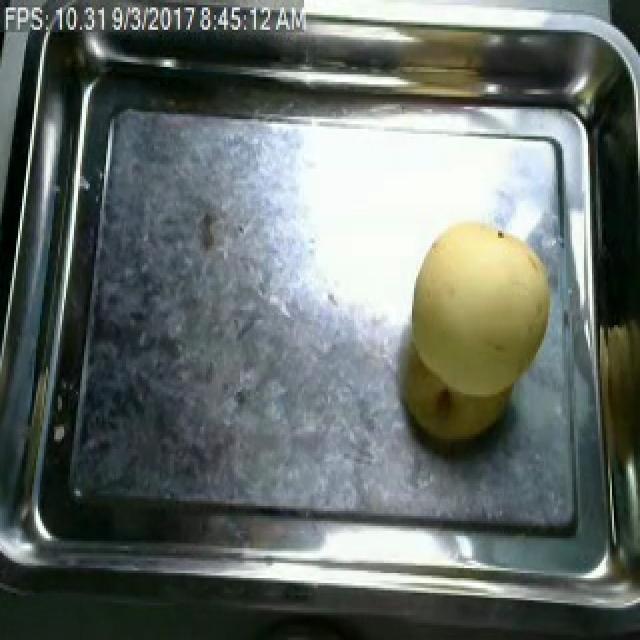Fruit: (404, 206, 564, 407)
